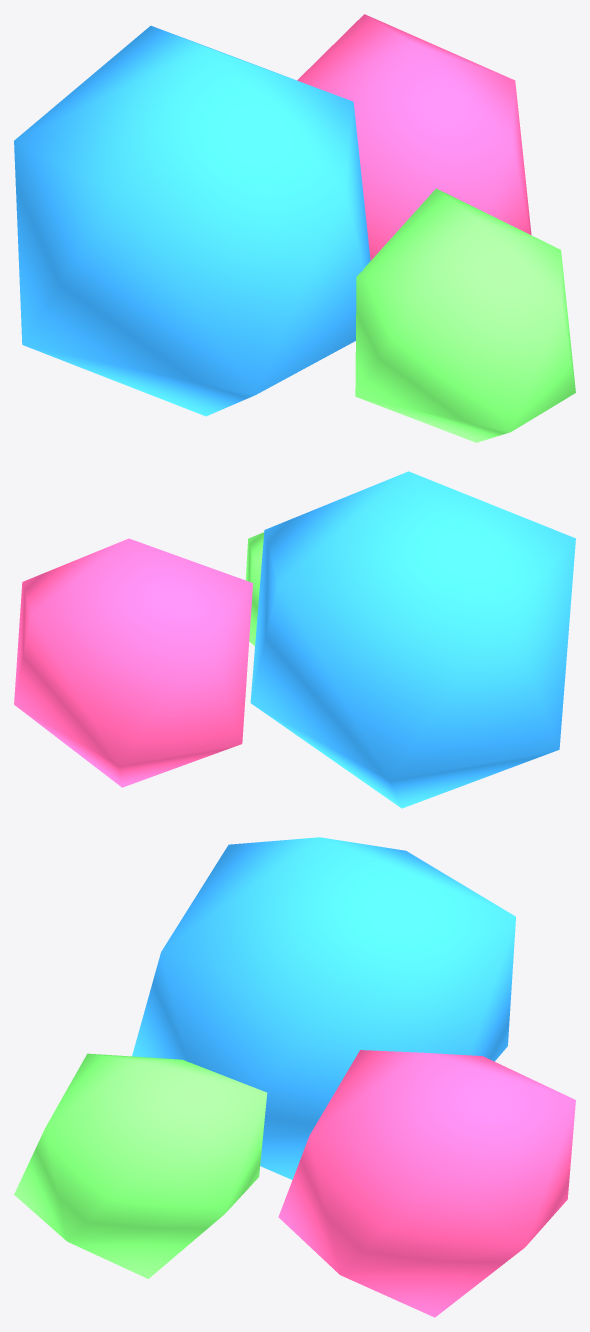
Rendered from gem_find.glb.
3 views of the same model, one above another, from view 1: azimuth 30°, elevation 25°; view 2: azimuth 150°, elevation 25°; view 3: azimuth 270°, elevation 25° (orthographic). The views are drawn at different scales.
Parts seen in each view (by area): view 1: gem_find; view 2: gem_find; view 3: gem_find.
Boxes of the visible parts, box(x1,y1,x2,y2) form: gem_find: box(14, 14, 575, 442); gem_find: box(14, 471, 575, 808); gem_find: box(14, 837, 575, 1317).
Size of the model in its own units: 0.4662 by 0.3037 by 0.4315.
